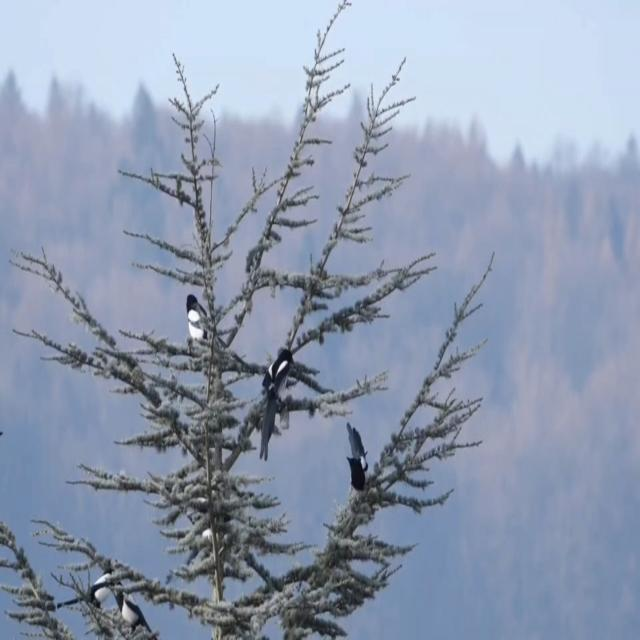bird: (243, 336, 301, 482), (181, 286, 252, 392), (182, 492, 230, 602), (48, 556, 120, 629), (339, 408, 378, 522), (93, 579, 155, 640)
